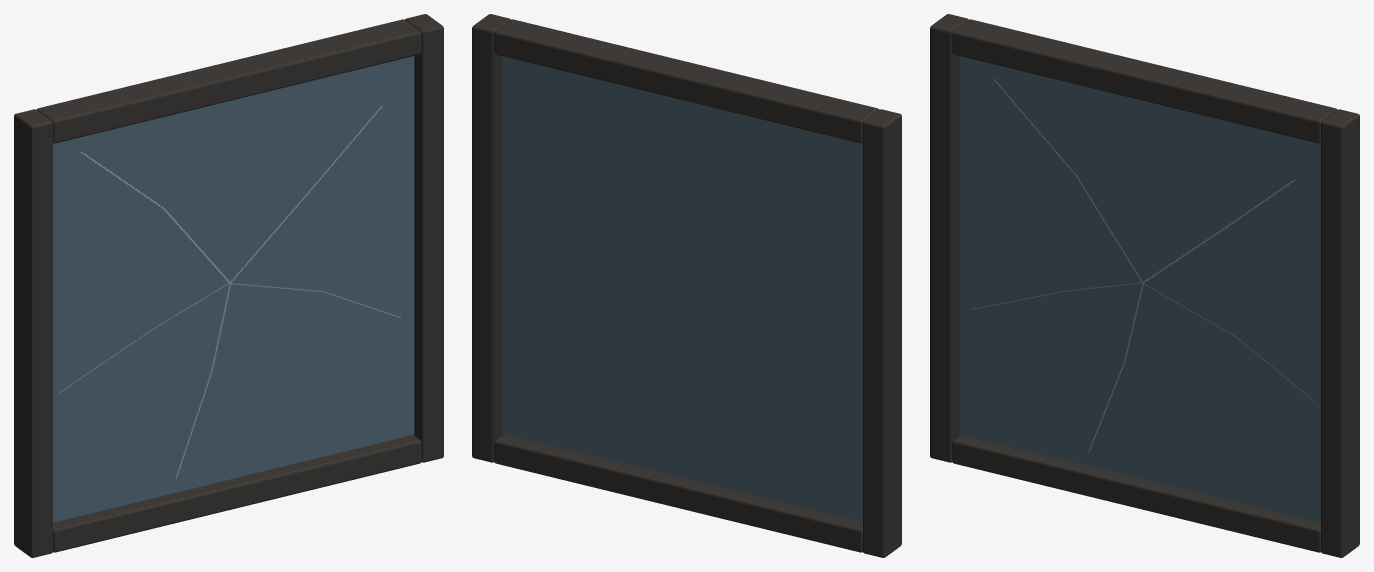
Rendered from MS_AT_12_CrackedGlass.glb.
3 views of the same model, side by side, from view 1: azimuth 30°, elevation 25°; view 2: azimuth 150°, elevation 25°; view 3: azimuth 330°, elevation 25° (orthographic).
Parts seen in each view (by area): view 1: Glass.002, WindowFrame.008, WindowFrame.011, WindowFrame.009, WindowFrame.010, CrackSurface; view 2: Glass.002, WindowFrame.008, WindowFrame.011, WindowFrame.009, WindowFrame.010; view 3: Glass.002, WindowFrame.009, WindowFrame.011, WindowFrame.008, WindowFrame.010, CrackSurface.
Part boxes in pixels (<box>): Glass.002: <box>53,56,414,522</box>; WindowFrame.008: <box>14,109,52,557</box>; WindowFrame.011: <box>36,19,421,143</box>; WindowFrame.009: <box>405,14,443,462</box>; WindowFrame.010: <box>53,435,421,552</box>; CrackSurface: <box>59,105,401,478</box>; Glass.002: <box>502,56,862,521</box>; WindowFrame.008: <box>863,109,901,557</box>; WindowFrame.011: <box>494,19,879,143</box>; WindowFrame.009: <box>472,14,510,462</box>; WindowFrame.010: <box>494,434,862,552</box>; Glass.002: <box>959,56,1320,522</box>; WindowFrame.009: <box>1321,109,1359,557</box>; WindowFrame.011: <box>952,19,1337,143</box>; WindowFrame.008: <box>930,14,968,462</box>; WindowFrame.010: <box>952,435,1320,552</box>; CrackSurface: <box>972,78,1313,452</box>.
Bounding box in the file's own units: 1.3 × 1.3 × 0.1.
Materials: 3 (1 with a texture image).
